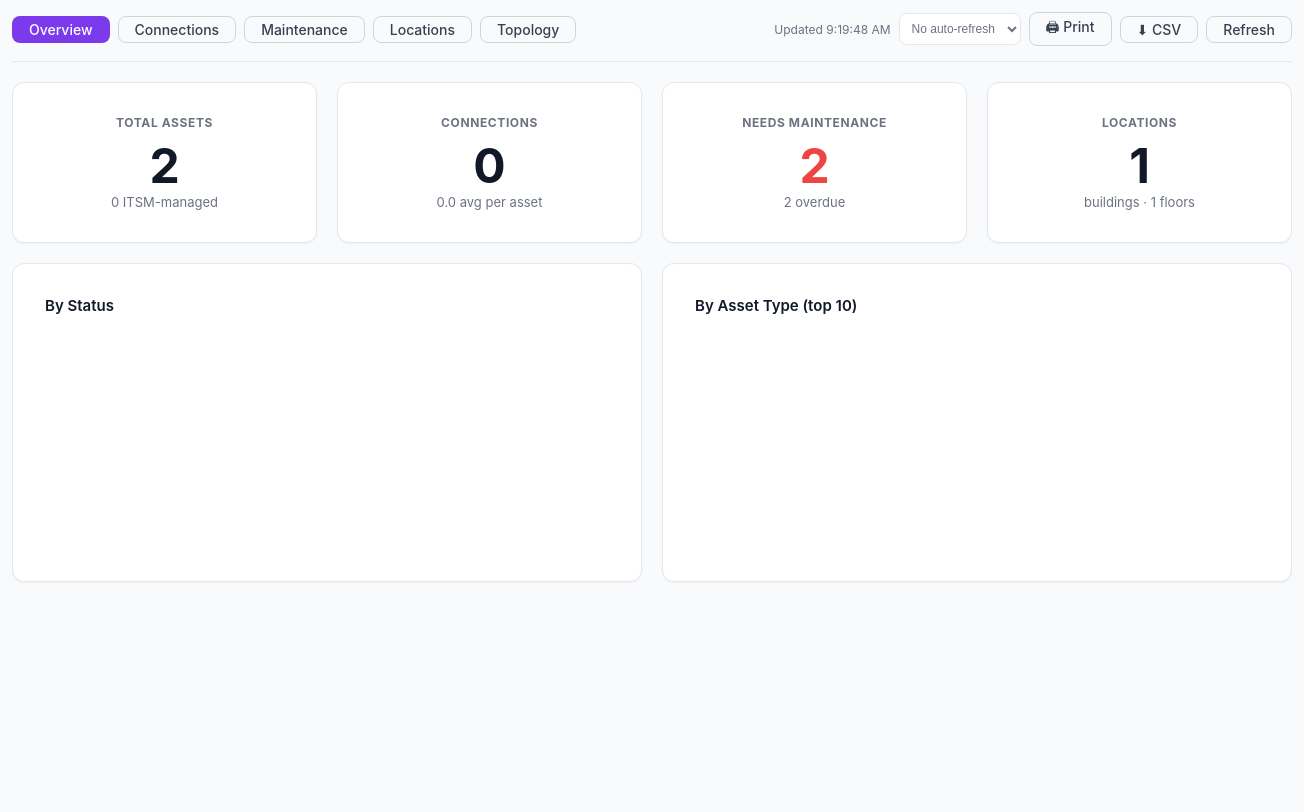
Scenario: AssetReports â€” with assets › shows overdue count in Maintenance tab
The width and height of the screenshot is (1304, 812).
Check: the heading "Total Assets" is shown, box [116,115,213,130]
Click the button "Maintenance" at (304, 29), box [244,16,365,42]
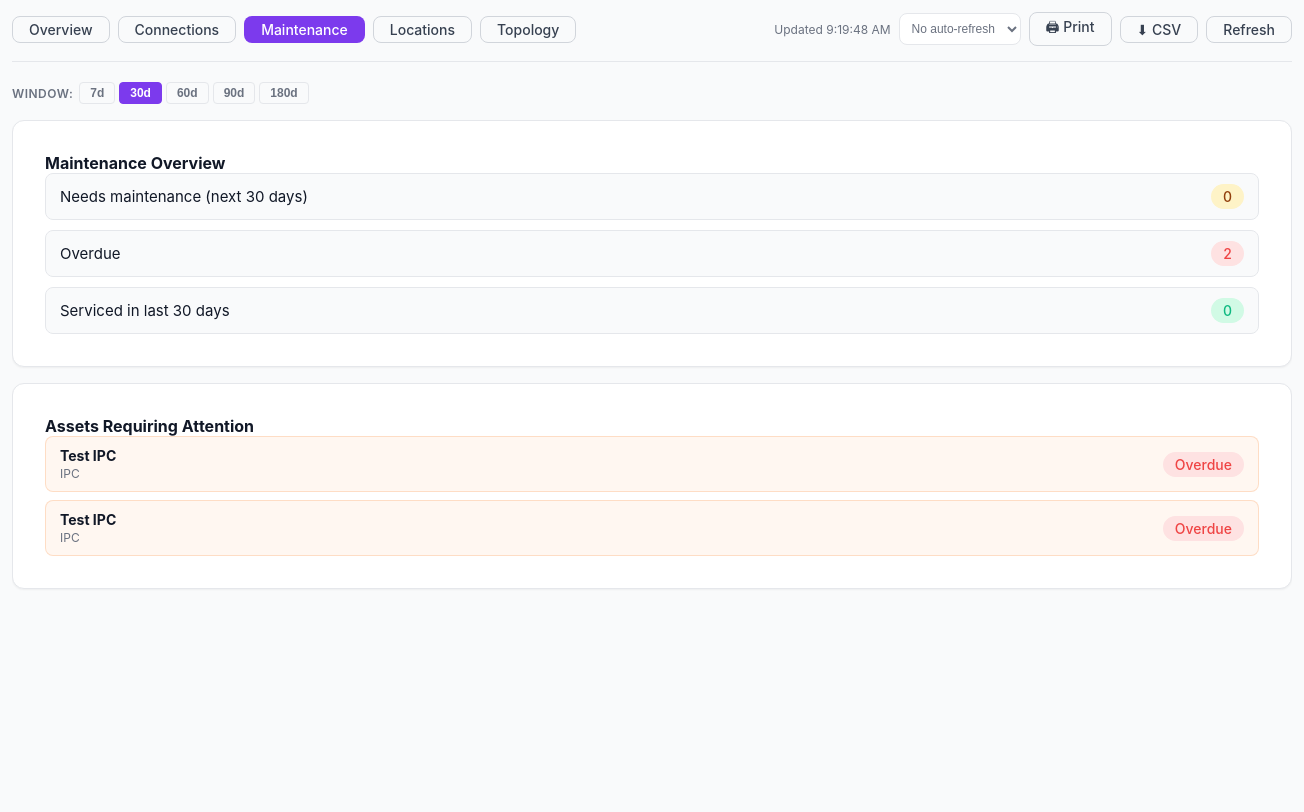
Check: the text "Overdue" below "Needs maintenance (next" is shown, box [60,244,121,263]
